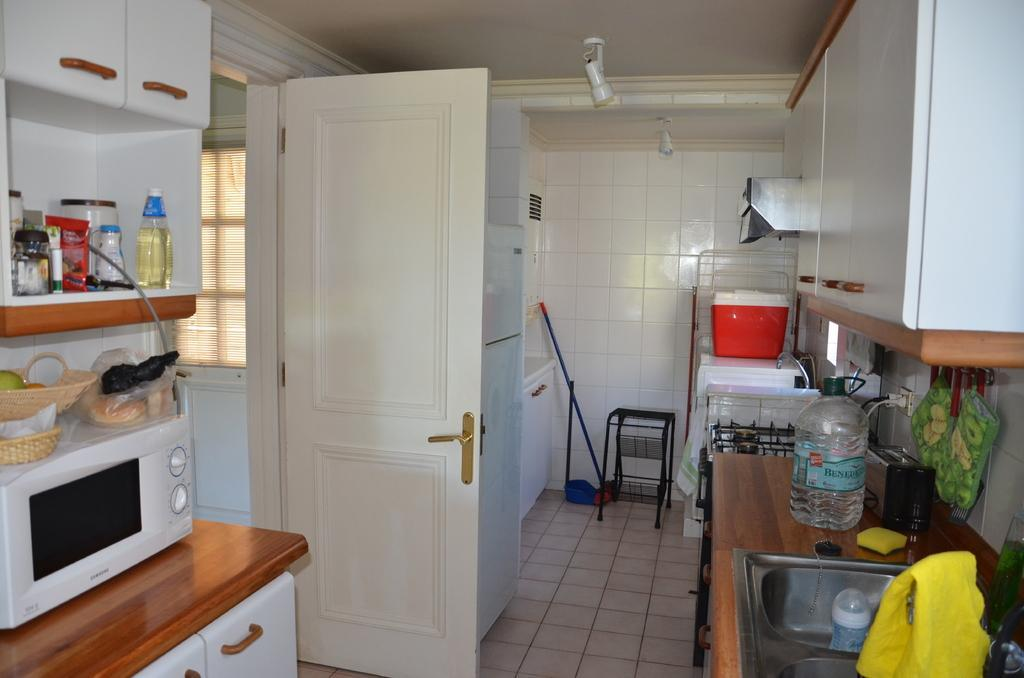door: (280, 82, 478, 651)
handle: (428, 423, 472, 450)
